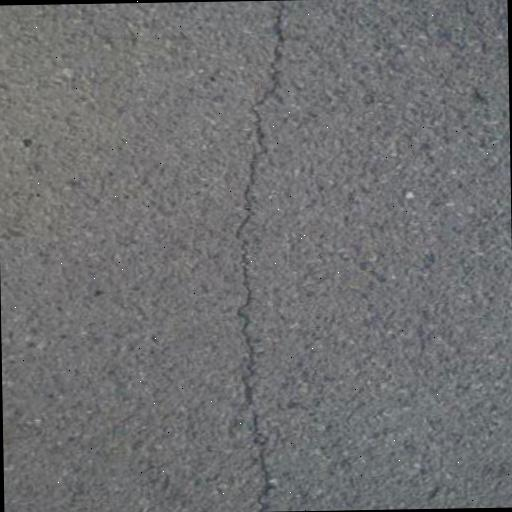spalling: (216, 11, 307, 507)
